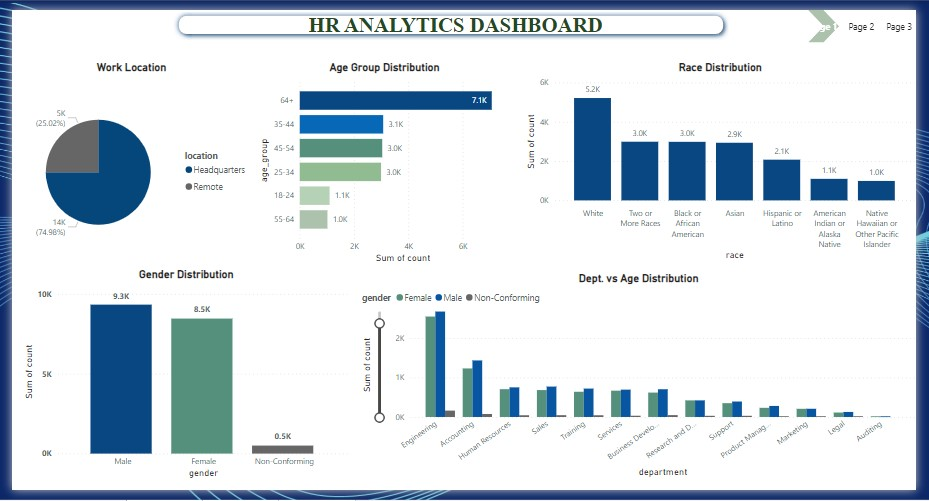

This screenshot's page, from the dashboard's own definition file:
{"tool":"powerbi","page":{"name":"Page 1","canvas":[1390,738],"ordinal":0},"visuals":[{"type":"shape","box":[247.7,0,855.4,46],"z":0,"group":"g1"},{"type":"clusteredColumnChart","title":"Gender Distribution","fields":{"Y":["Sum(Gender.count)"],"Category":["Gender.gender"]},"box":[0,396.9,518.5,341.5],"z":0,"group":"g2"},{"type":"textbox","box":[276.9,0,810.8,52.3],"z":1000,"group":"g1"},{"type":"pieChart","title":"Work Location","fields":{"Category":["hq_remote.location"],"Y":["Sum(hq_remote.count)"]},"box":[0,78.5,367.7,318.5],"z":1000,"group":"g2"},{"type":"clusteredBarChart","title":"Age Group Distribution","fields":{"Category":["age.age_group"],"Y":["Sum(age.count)"]},"box":[367.7,78.5,416.9,318.5],"z":2000,"group":"g2"},{"type":"lineClusteredColumnComboChart","title":"Dept. vs Age Distribution","fields":{"Category":["dept_gender.department"],"Y":["Sum(dept_gender.count)"],"Series":["dept_gender.gender"]},"box":[518.5,396.9,872.3,341.5],"z":3000,"group":"g2"},{"type":"clusteredColumnChart","title":"Race Distribution","fields":{"Y":["Sum(race.count)"],"Category":["race.race"]},"box":[784.6,78.5,606.2,318.5],"z":4000,"group":"g2"},{"type":"group","id":"g1","title":"Group 1","box":[247.7,0,855.4,52.3],"z":5000,"group":"g2"},{"type":"group","id":"g2","title":"Group 2","box":[0,0,1390.8,738.5],"z":5001},{"type":"pageNavigator","box":[1224.6,0,166.2,50.8],"z":5002}]}

Visuals, with their boxes in screenshot pixels (x1, y1, x2, y2), scaled from the page's 1390x738 canvas onto the 929x501 screenshot:
shape: detection(166, 0, 737, 31)
"Gender Distribution" clusteredColumnChart: detection(0, 269, 347, 500)
textbox: detection(185, 0, 727, 36)
"Work Location" pieChart: detection(0, 53, 246, 270)
"Age Group Distribution" clusteredBarChart: detection(246, 53, 524, 270)
"Dept. vs Age Distribution" lineClusteredColumnComboChart: detection(347, 269, 928, 500)
"Race Distribution" clusteredColumnChart: detection(524, 53, 928, 270)
"Group 1" group: detection(166, 0, 737, 36)
"Group 2" group: detection(0, 0, 928, 500)
pageNavigator: detection(818, 0, 928, 34)
